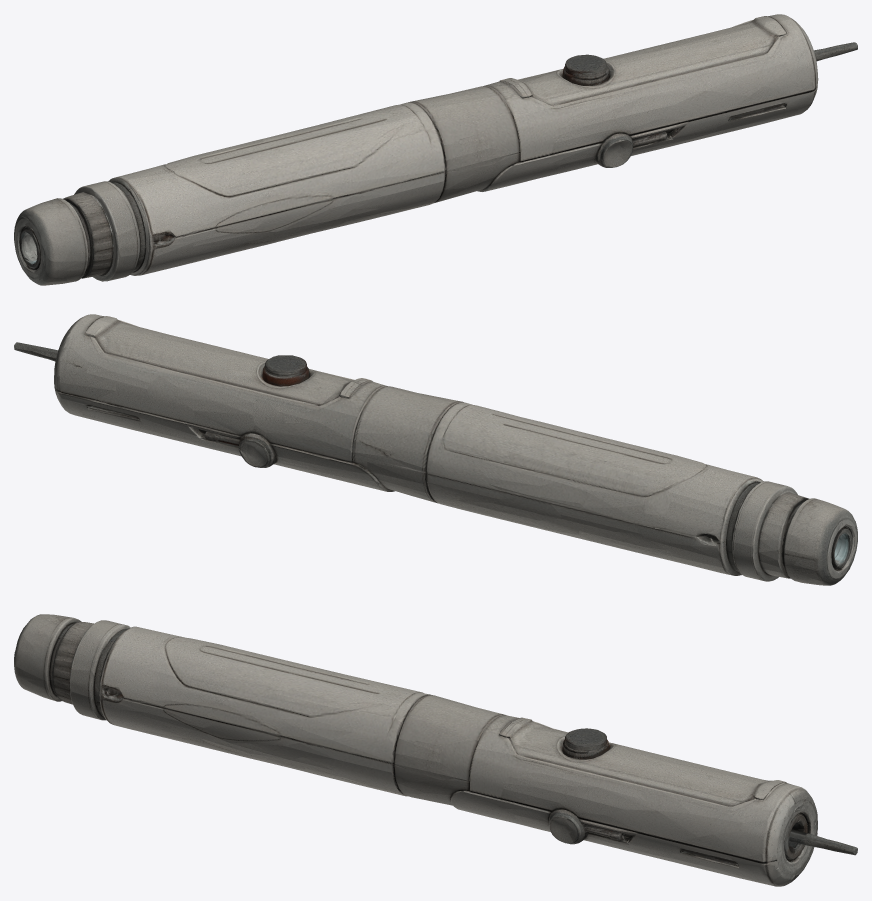
The model's file is surgical_beam.glb.
3 views of the same model, one above another, from view 1: azimuth 30°, elevation 25°; view 2: azimuth 150°, elevation 25°; view 3: azimuth 330°, elevation 25° (orthographic).
Parts seen in each view (by area): view 1: mesh_node; view 2: mesh_node; view 3: mesh_node.
Boxes of the visible parts, x1=… form: mesh_node: x1=14, y1=14, x2=857, y2=285; mesh_node: x1=14, y1=314, x2=857, y2=585; mesh_node: x1=14, y1=614, x2=857, y2=886.
Size of the model in its own units: 1.9 by 0.2145 by 0.2288.
Materials: 1 (1 with a texture image).
